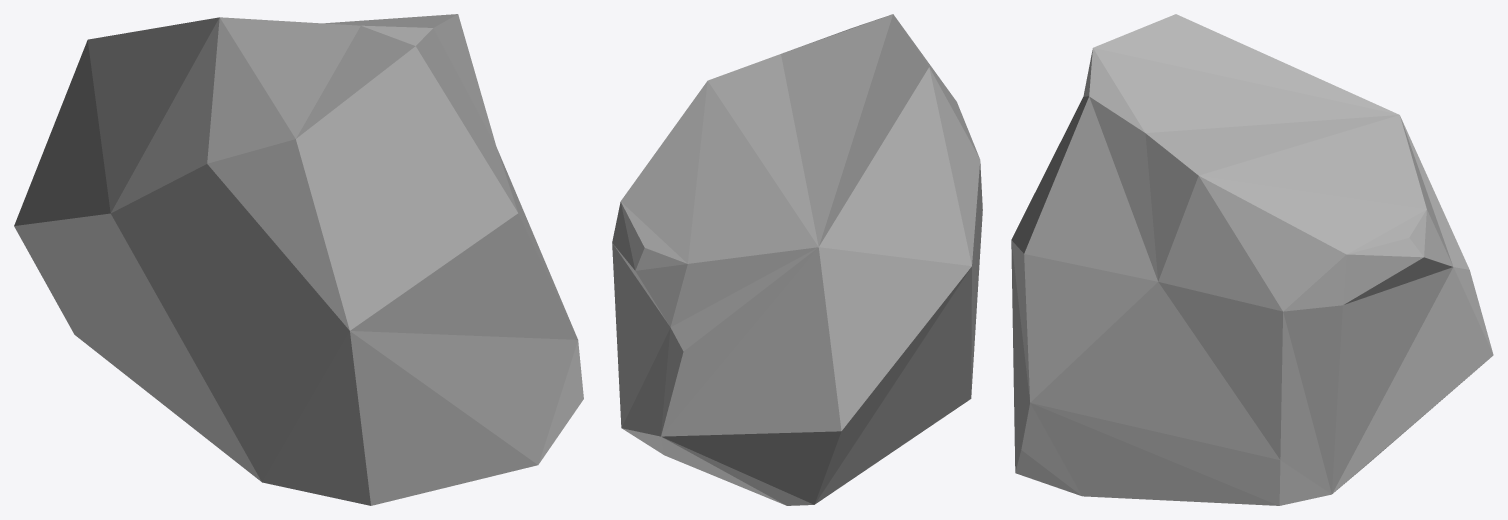
File: Petit_Cailloux_04.fbx
3 renders of one model, left to right at view 1: azimuth 30°, elevation 25°; view 2: azimuth 150°, elevation 25°; view 3: azimuth 270°, elevation 25°, orthographic. The views are drawn at different scales.
Visible parts, largest first — view 1: Petit_Cailloux_04; view 2: Petit_Cailloux_04; view 3: Petit_Cailloux_04.
Part boxes in pixels (x1=…): Petit_Cailloux_04: x1=14, y1=14, x2=583, y2=505; Petit_Cailloux_04: x1=612, y1=14, x2=982, y2=505; Petit_Cailloux_04: x1=1011, y1=14, x2=1493, y2=505.
Bounding box in the file's own units: 64.06 × 69.99 × 82.46.
Materials: 1 (1 with a texture image).
